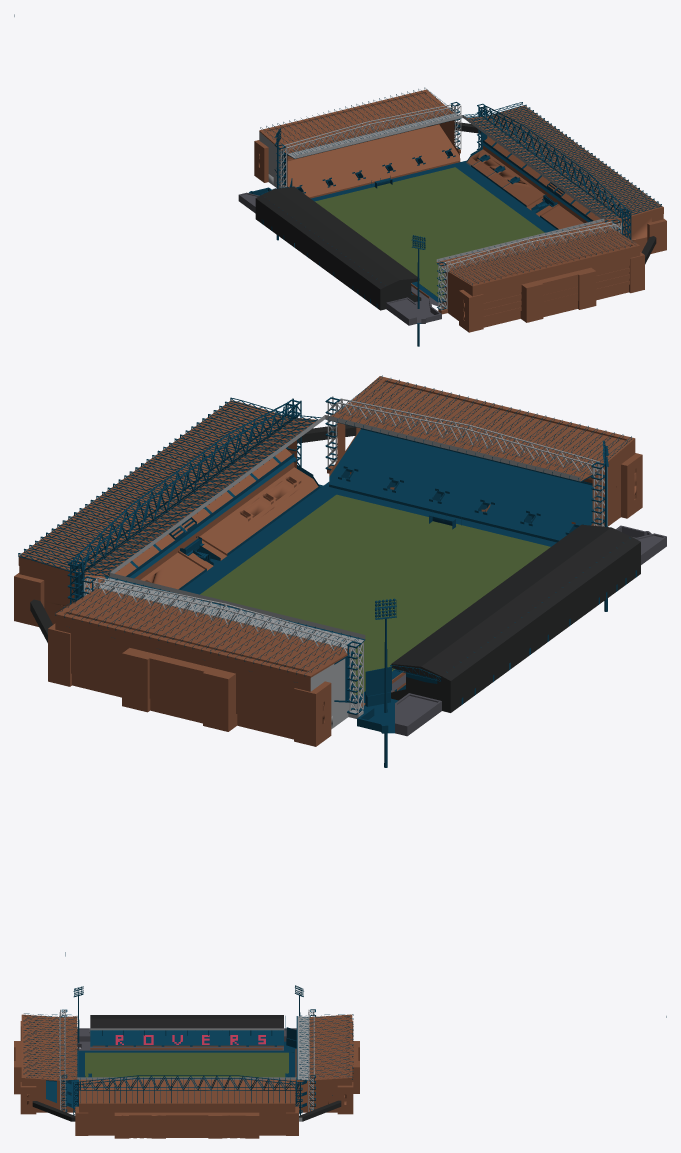
The model's file is Stadium.fbx.
3 renders of one model, top to bottom at view 1: azimuth 30°, elevation 25°; view 2: azimuth 150°, elevation 25°; view 3: azimuth 270°, elevation 25°, orthographic. The views are drawn at different scales.
Parts seen in each view (by area): view 1: All; view 2: All; view 3: All.
Part boxes in pixels (bbox=[...]): All: bbox=[14, 14, 666, 346]; All: bbox=[14, 375, 666, 956]; All: bbox=[14, 985, 666, 1138].
Size of the model in its own units: 13591 by 5066 by 34890.
